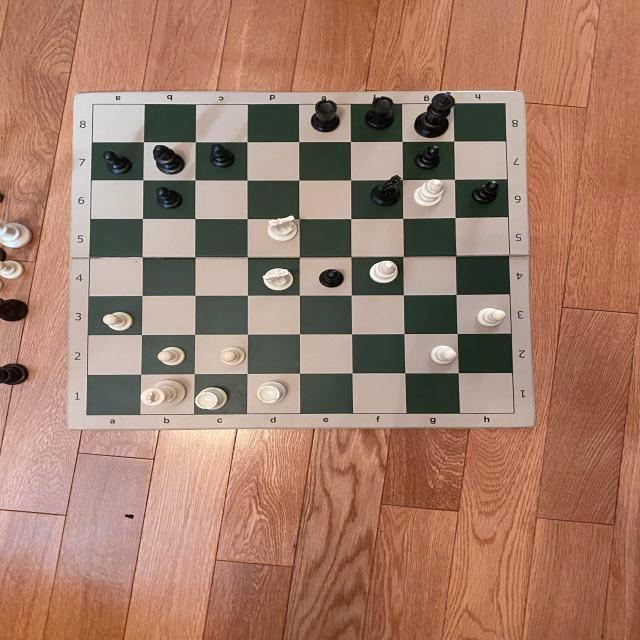chess-table-corners: (502, 408, 524, 417), (496, 100, 514, 109), (79, 411, 95, 419), (89, 102, 102, 110)
